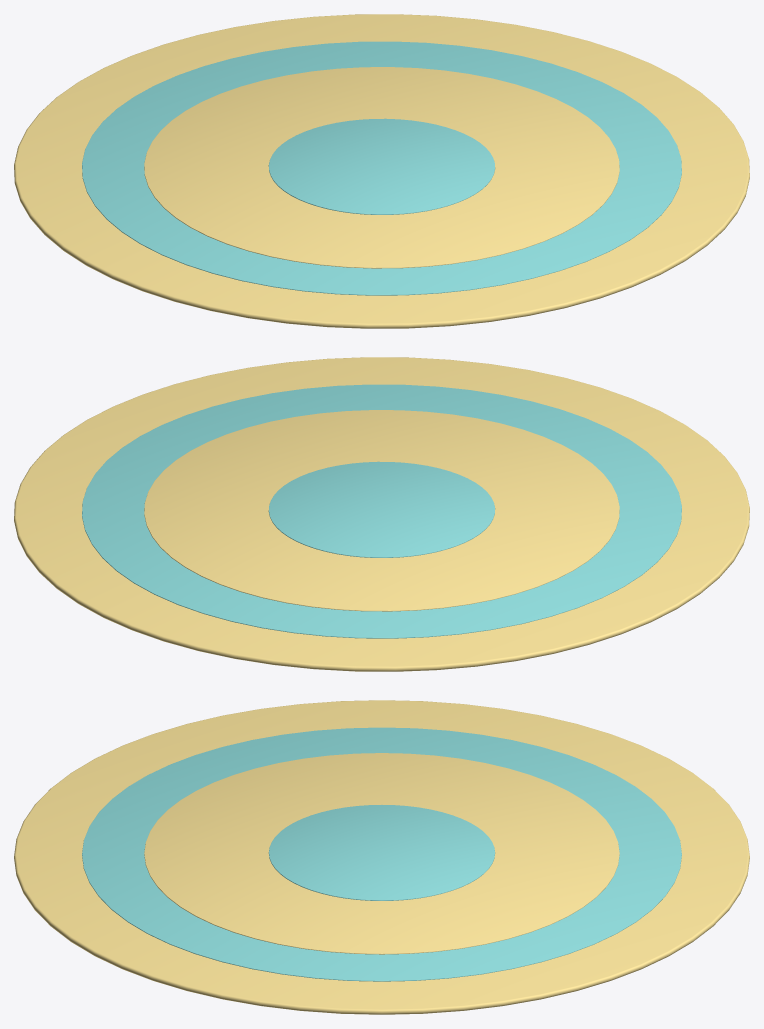
File: tapete_redondo_aneis_turquesa.glb
The picture shows the model from 3 angles, top to bottom: view 1: azimuth 30°, elevation 25°; view 2: azimuth 150°, elevation 25°; view 3: azimuth 270°, elevation 25°; orthographic projection.
Visible parts, largest first — view 1: tapete_redondo_aneis_turquesa; view 2: tapete_redondo_aneis_turquesa; view 3: tapete_redondo_aneis_turquesa.
Part boxes in pixels (x1=…): tapete_redondo_aneis_turquesa: x1=14, y1=14, x2=749, y2=328; tapete_redondo_aneis_turquesa: x1=14, y1=357, x2=749, y2=671; tapete_redondo_aneis_turquesa: x1=14, y1=700, x2=749, y2=1014.
Size of the model in its own units: 1.3 by 0.0148 by 1.3.
1 material, 1 textured.
